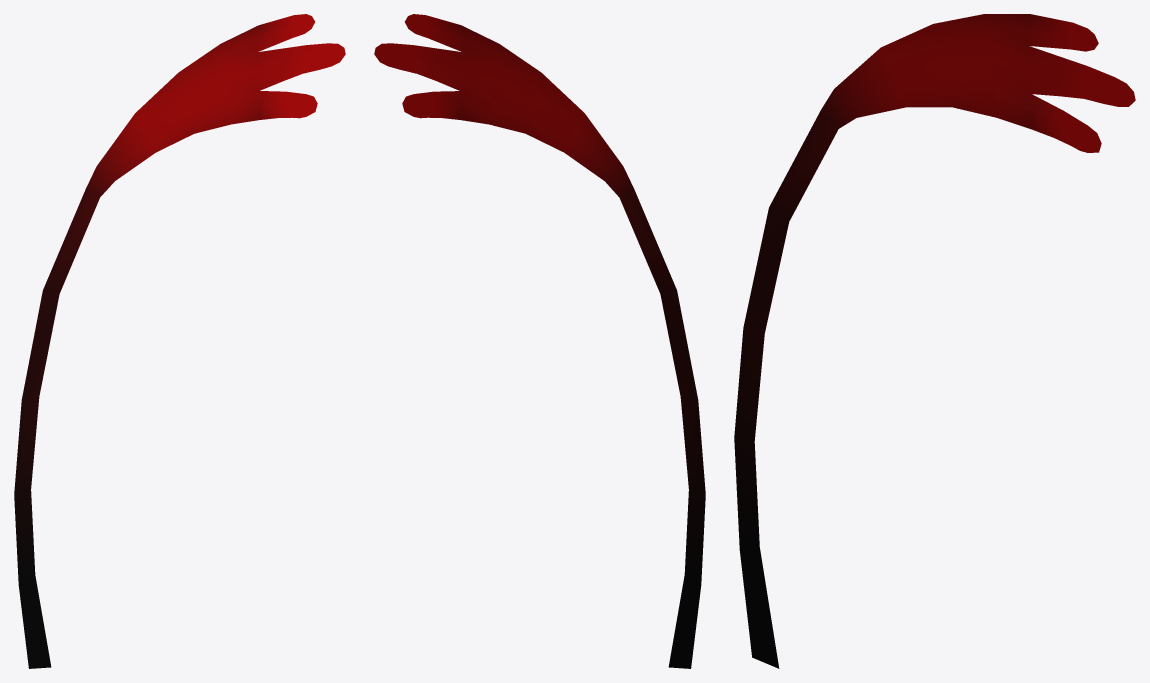
Rendered from SM_WildGrass_03_LOD0.fbx.
3 views of the same model, side by side, from view 1: azimuth 30°, elevation 25°; view 2: azimuth 150°, elevation 25°; view 3: azimuth 330°, elevation 25° (orthographic). The views are drawn at different scales.
Parts seen in each view (by area): view 1: SM_WildGrass_03_LOD0; view 2: SM_WildGrass_03_LOD0; view 3: SM_WildGrass_03_LOD0.
Boxes of the visible parts, left/top/right/bottom form: SM_WildGrass_03_LOD0: left=14, top=14, right=345, bottom=668; SM_WildGrass_03_LOD0: left=374, top=14, right=705, bottom=668; SM_WildGrass_03_LOD0: left=734, top=14, right=1135, bottom=668.
Bounding box in the file's own units: 108 × 0.141 × 184.
